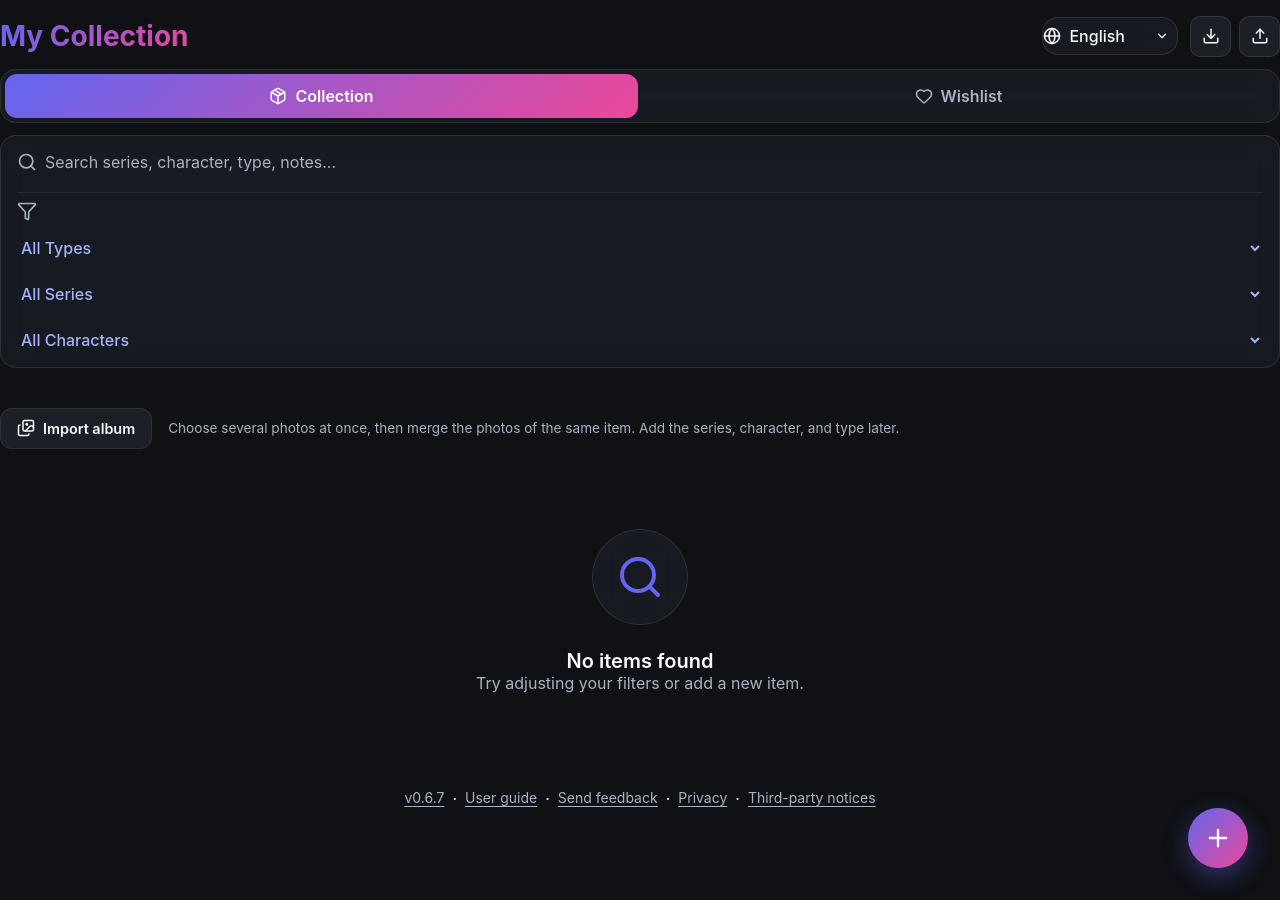
Scenario: Home smoke flows › on an iPhone › says nothing more when the share sheet is closed without saving
Click the button named "Export Backup". click: coordinates (1211, 36)
box: [1190,16,1231,57]
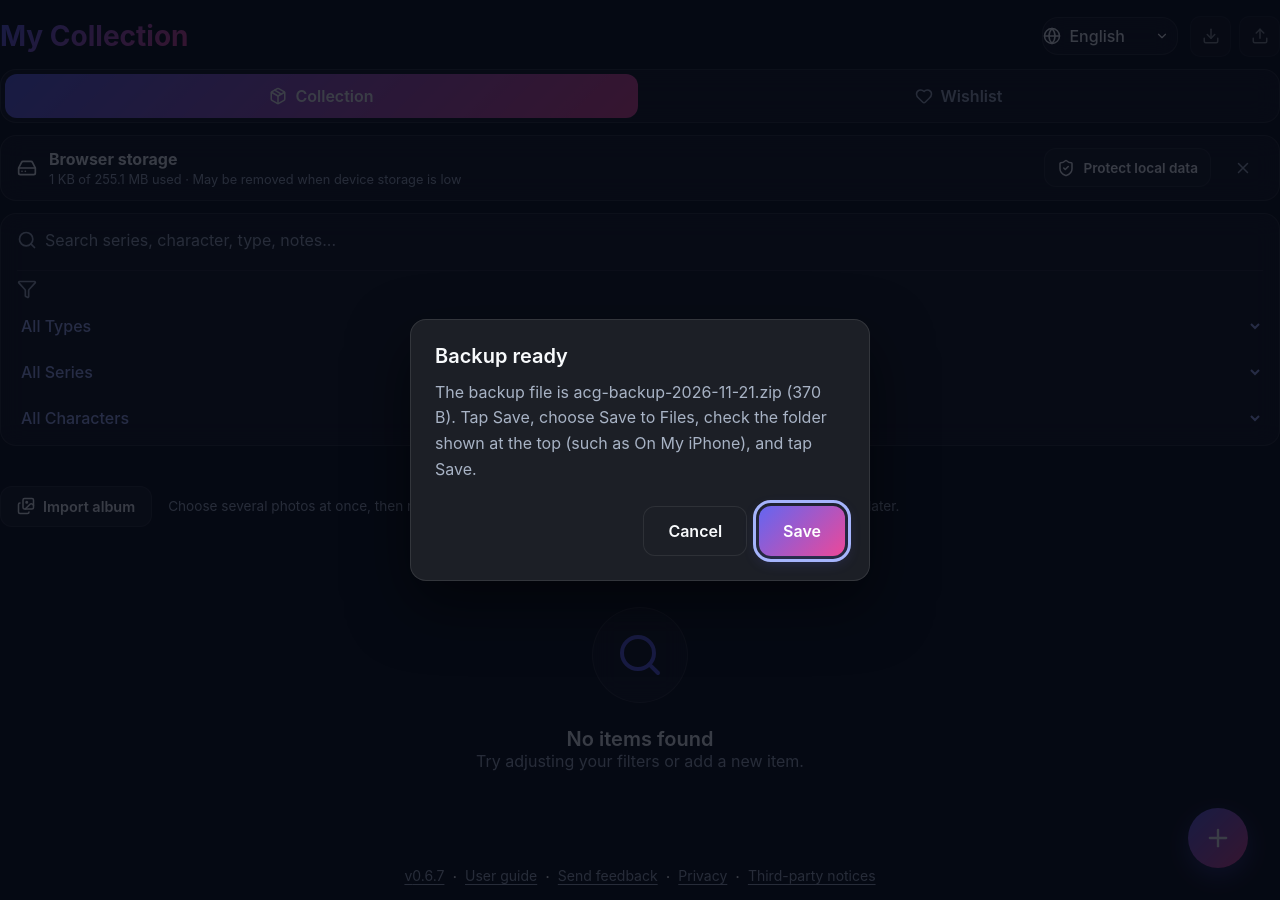
Click the button "Save". click: coordinates (802, 531)
box: [759,506,845,556]
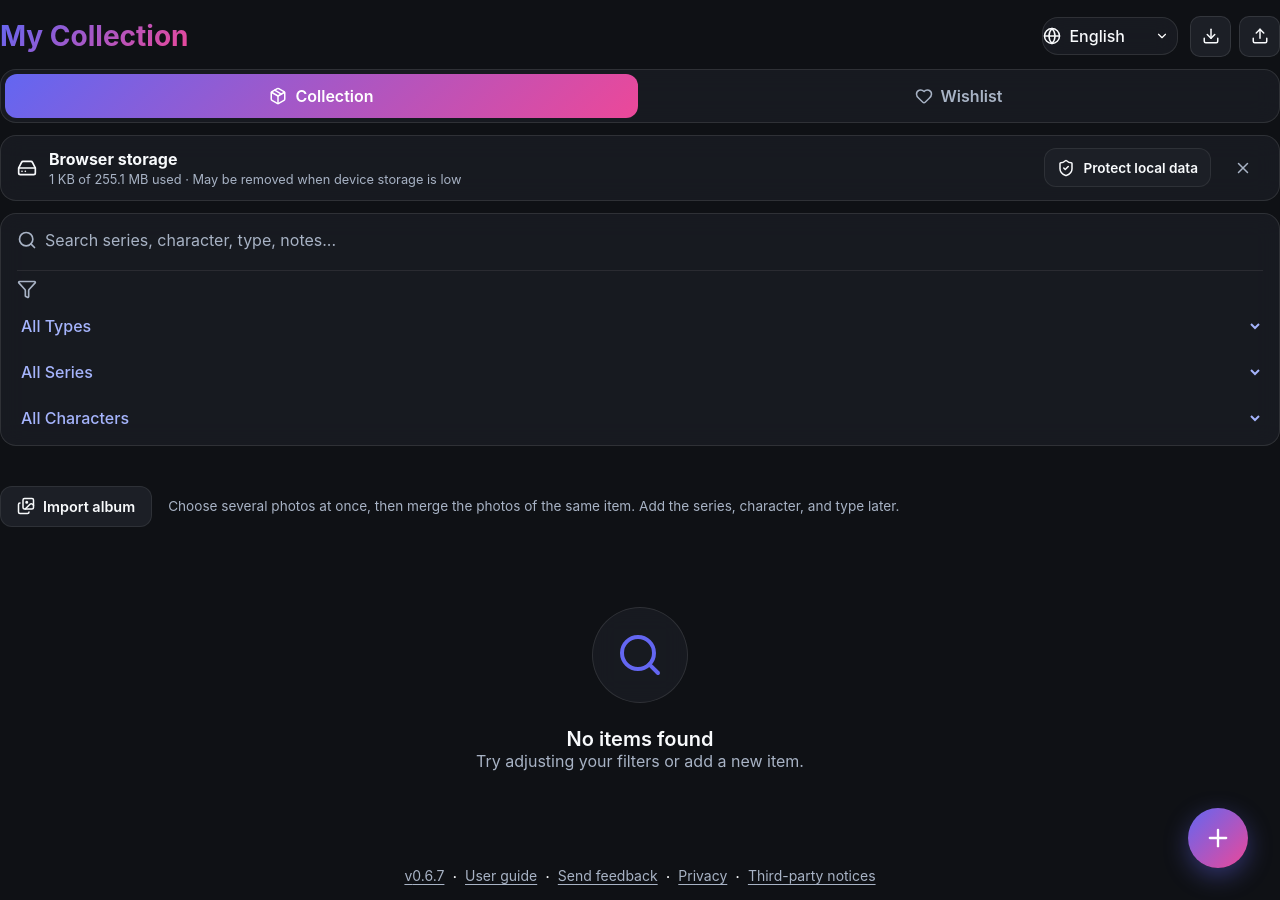
Check: the dialog is gone
